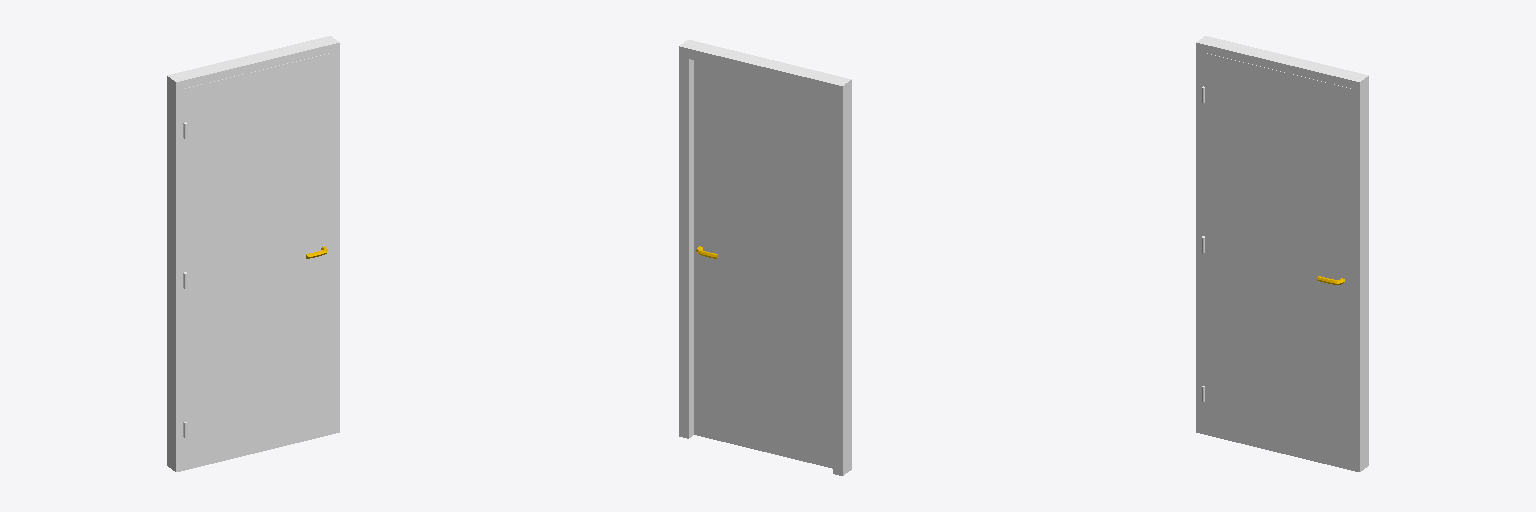
Rendered from internaldoor.obj.
3 renders of one model, left to right at view 1: azimuth 30°, elevation 25°; view 2: azimuth 150°, elevation 25°; view 3: azimuth 330°, elevation 25°, orthographic.
Visible parts, largest first — view 1: Porte_5, Montant_6; view 2: Porte_5, Montant_6; view 3: Porte_5, Montant_6.
Part boxes in pixels (left/top/right/bottom): Porte_5: left=184, top=53, right=331, bottom=470; Montant_6: left=167, top=36, right=339, bottom=471; Porte_5: left=694, top=60, right=832, bottom=468; Montant_6: left=679, top=40, right=851, bottom=475; Porte_5: left=1204, top=53, right=1351, bottom=470; Montant_6: left=1196, top=36, right=1368, bottom=471.
Size of the model in its own units: 91.44 by 208 by 14.61.